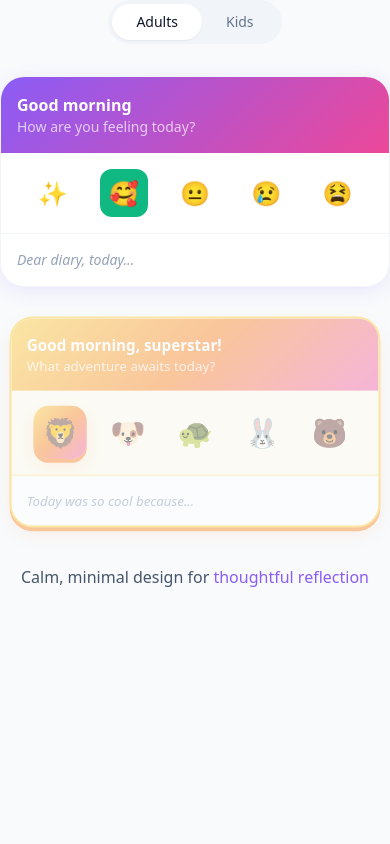
ModePreview › mode toggle › should switch to kids mode when Kids button is clicked
Click the button "Kids" at (240, 22), box [202,4,278,40]
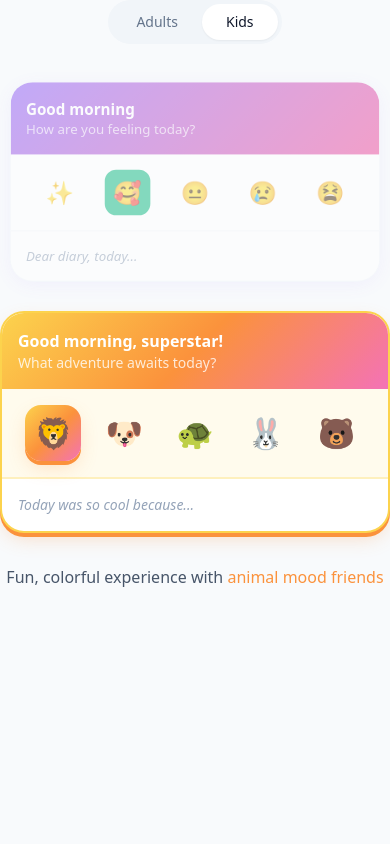
Expected: the text "animal mood friends" is shown, [227,566,384,588]
